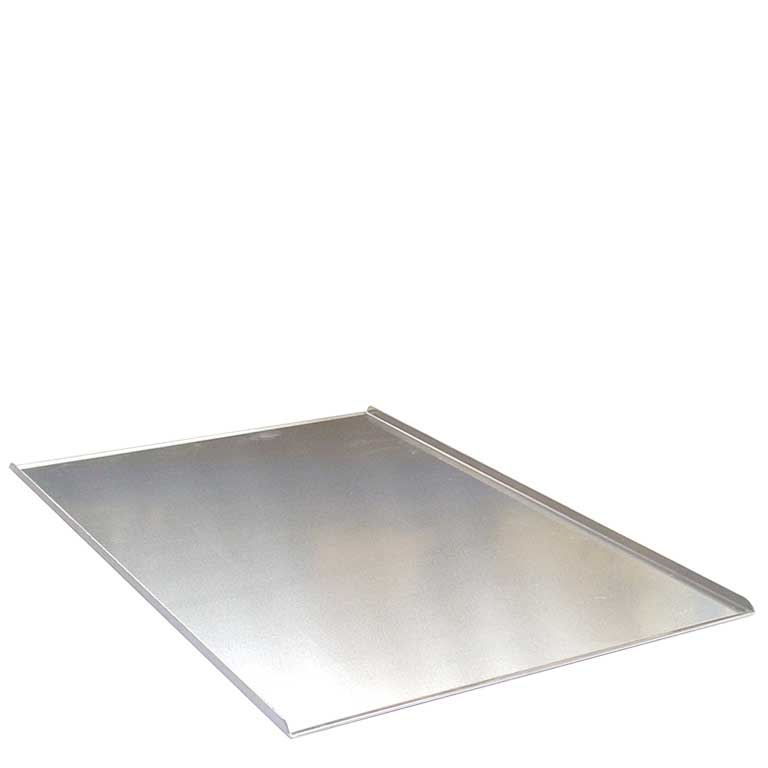metal: (7, 403, 757, 739)
